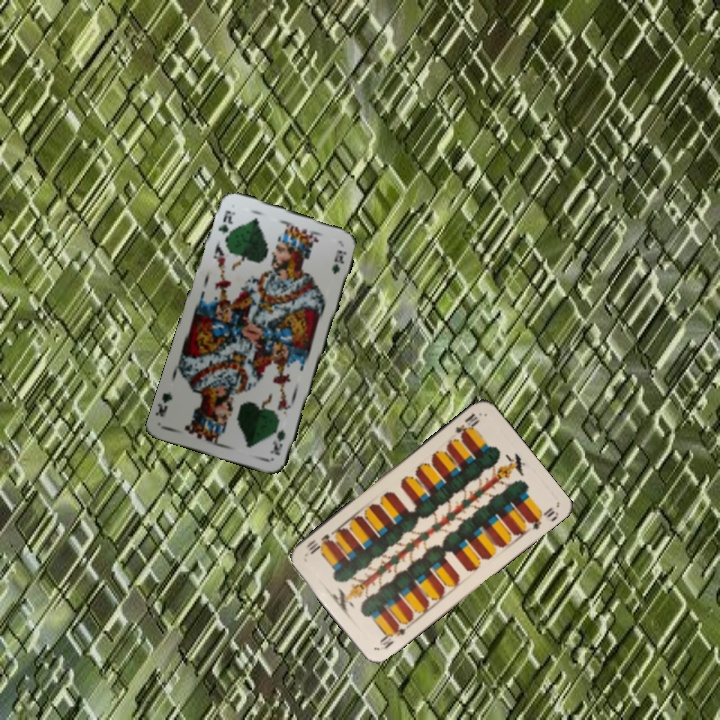E10: (375, 618, 411, 653), (451, 409, 482, 440)
GK: (214, 206, 237, 237), (267, 425, 288, 458)
